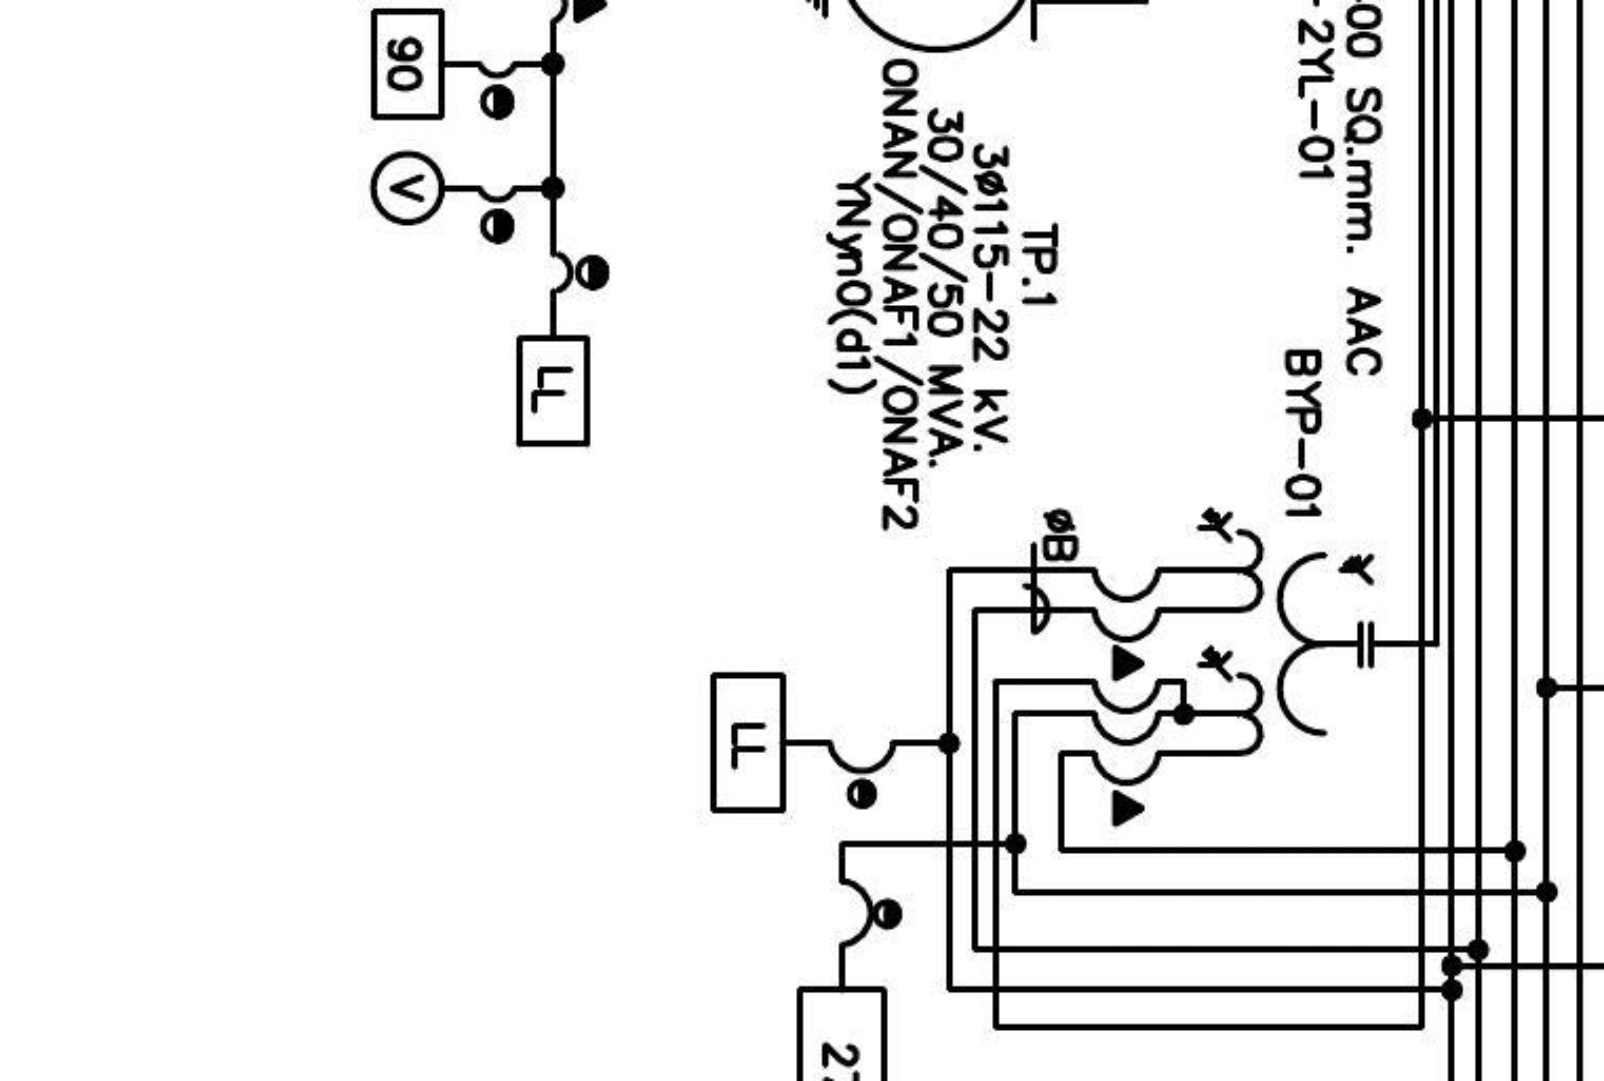115_cvt_3p: (1195, 505, 1375, 758)
LL: (709, 672, 787, 813), (515, 334, 590, 448)
v_m: (368, 149, 446, 227)
